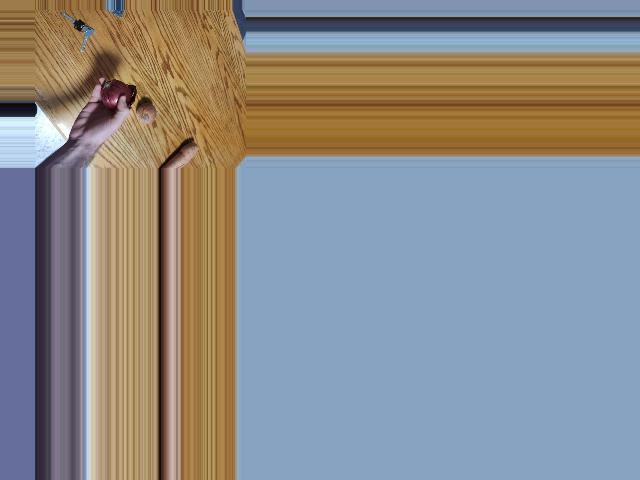onion: (99, 80, 130, 107)
